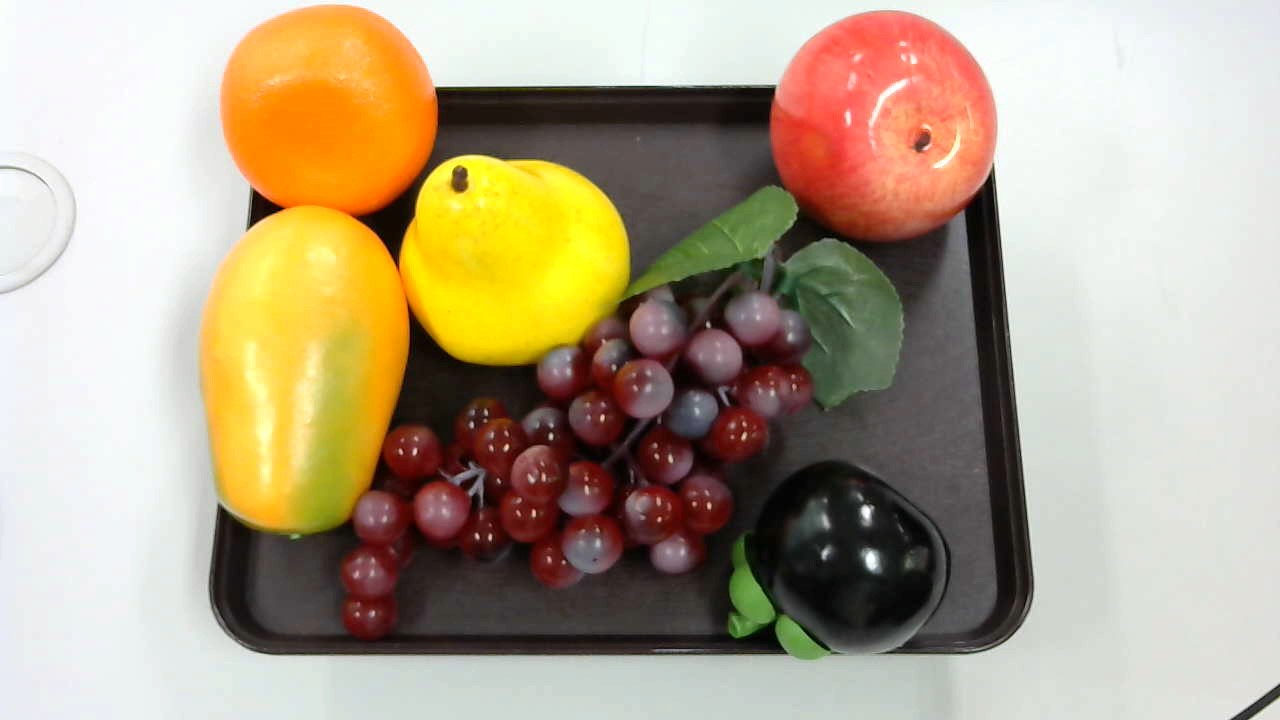grape: (342, 184, 902, 637)
mangosteen: (719, 455, 958, 663)
orange: (216, 5, 435, 221)
papya: (202, 209, 417, 541)
red apple: (761, 5, 1000, 239)
yellow pear: (400, 153, 631, 362)
